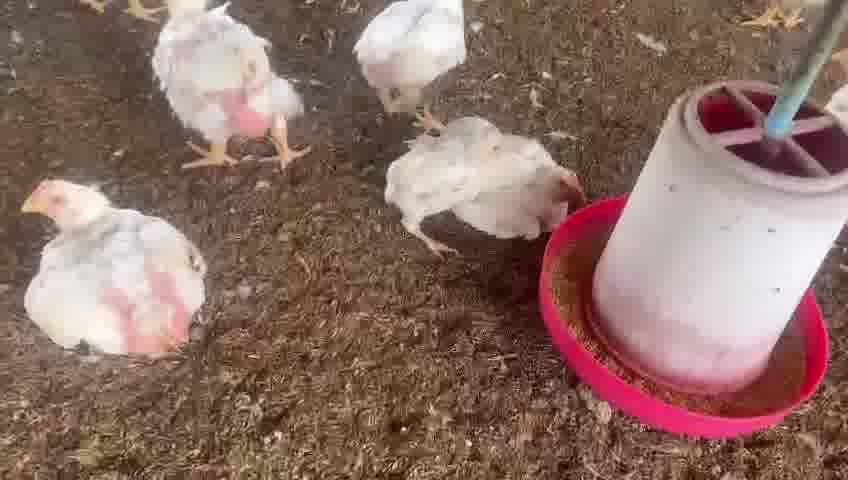AbNormal: (401, 100, 576, 255)
Normal: (0, 164, 219, 373), (154, 0, 319, 178), (342, 0, 480, 109)
